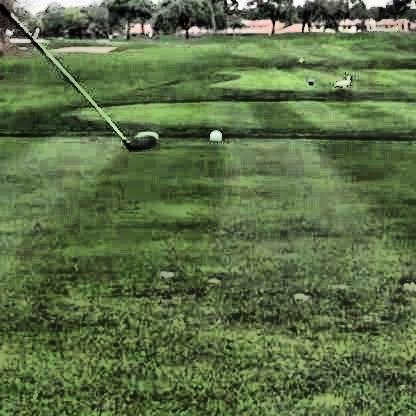golfball: (206, 127, 220, 142)
